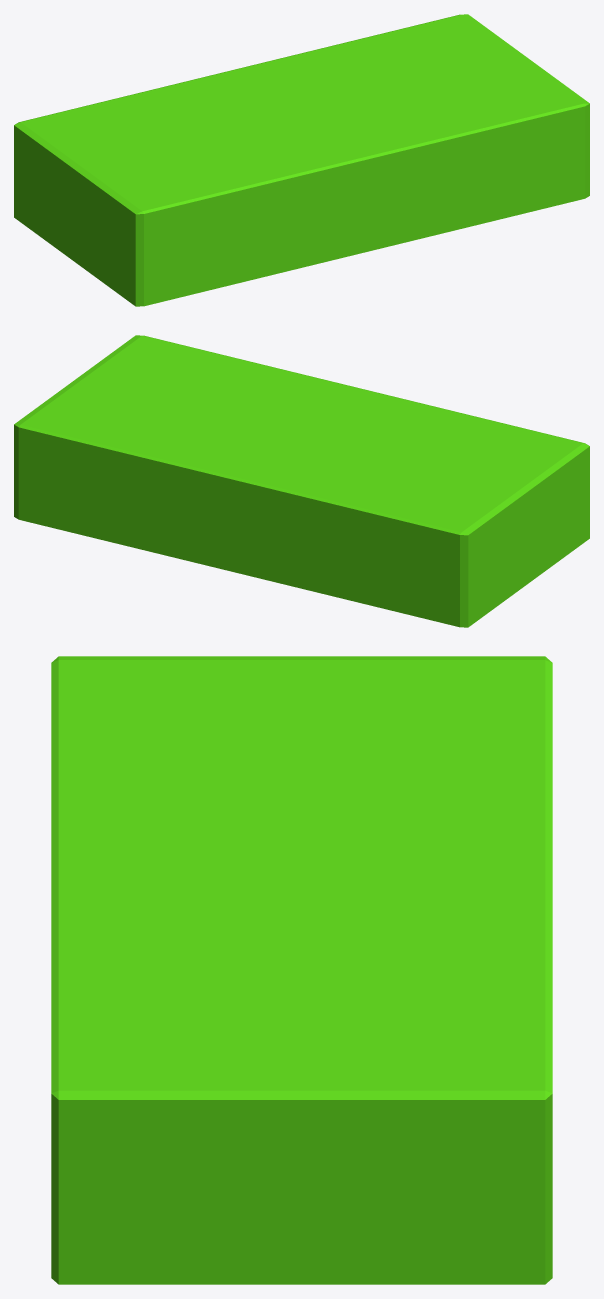
File: startbutton.gltf
The picture shows the model from 3 angles, top to bottom: view 1: azimuth 30°, elevation 25°; view 2: azimuth 150°, elevation 25°; view 3: azimuth 270°, elevation 25°; orthographic projection. The views are drawn at different scales.
Visible parts, largest first — view 1: go; view 2: go; view 3: go.
Part boxes in pixels (x1,y1,x2,y2): go: (14, 14, 589, 306); go: (14, 335, 589, 627); go: (51, 656, 552, 1284).
Bounding box in the file's own units: 1.8 × 0.36 × 0.8603.
